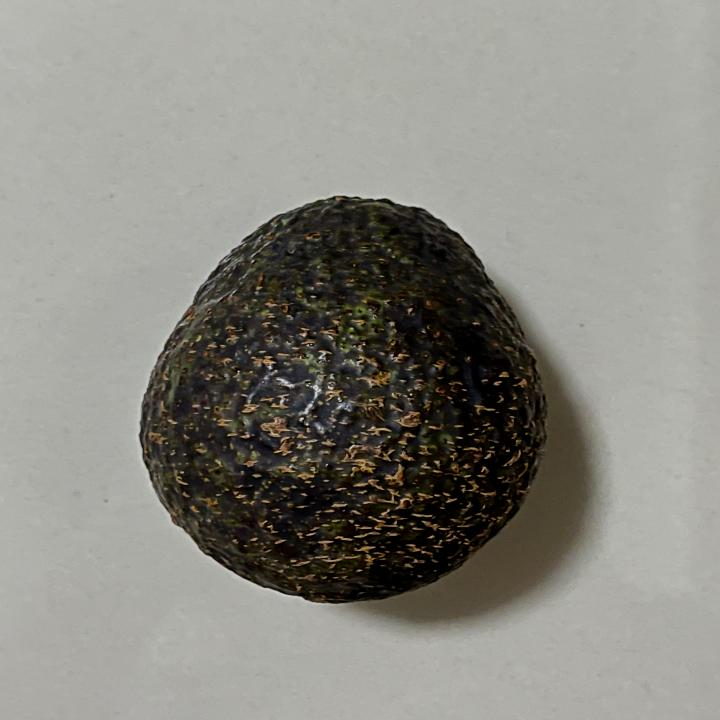Level2: (126, 191, 558, 611)
